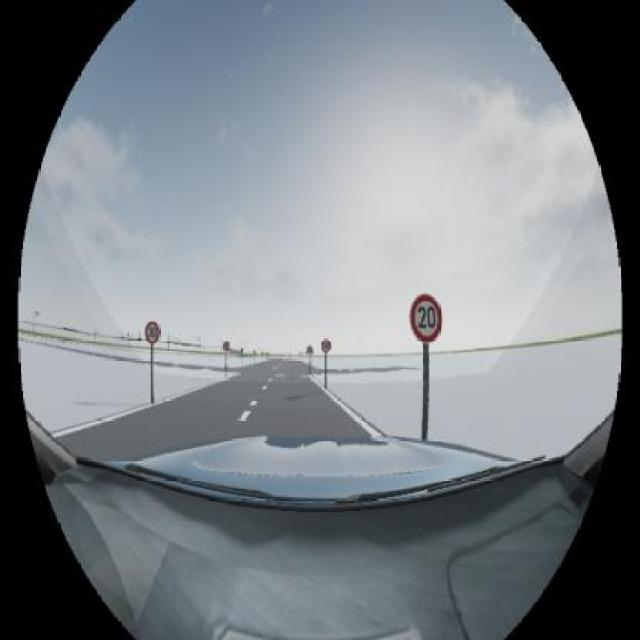forb_speed_over_20: (409, 292, 442, 343)
forb_speed_over_30: (146, 322, 160, 343)
